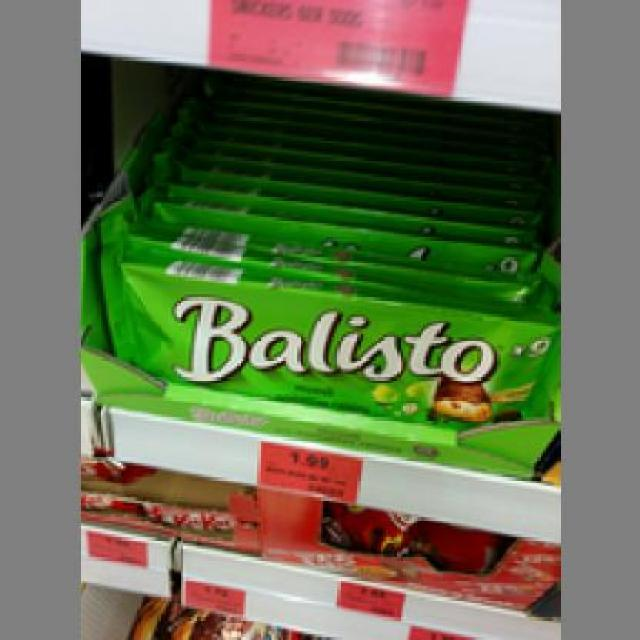Chocolate: (94, 231, 557, 440)
